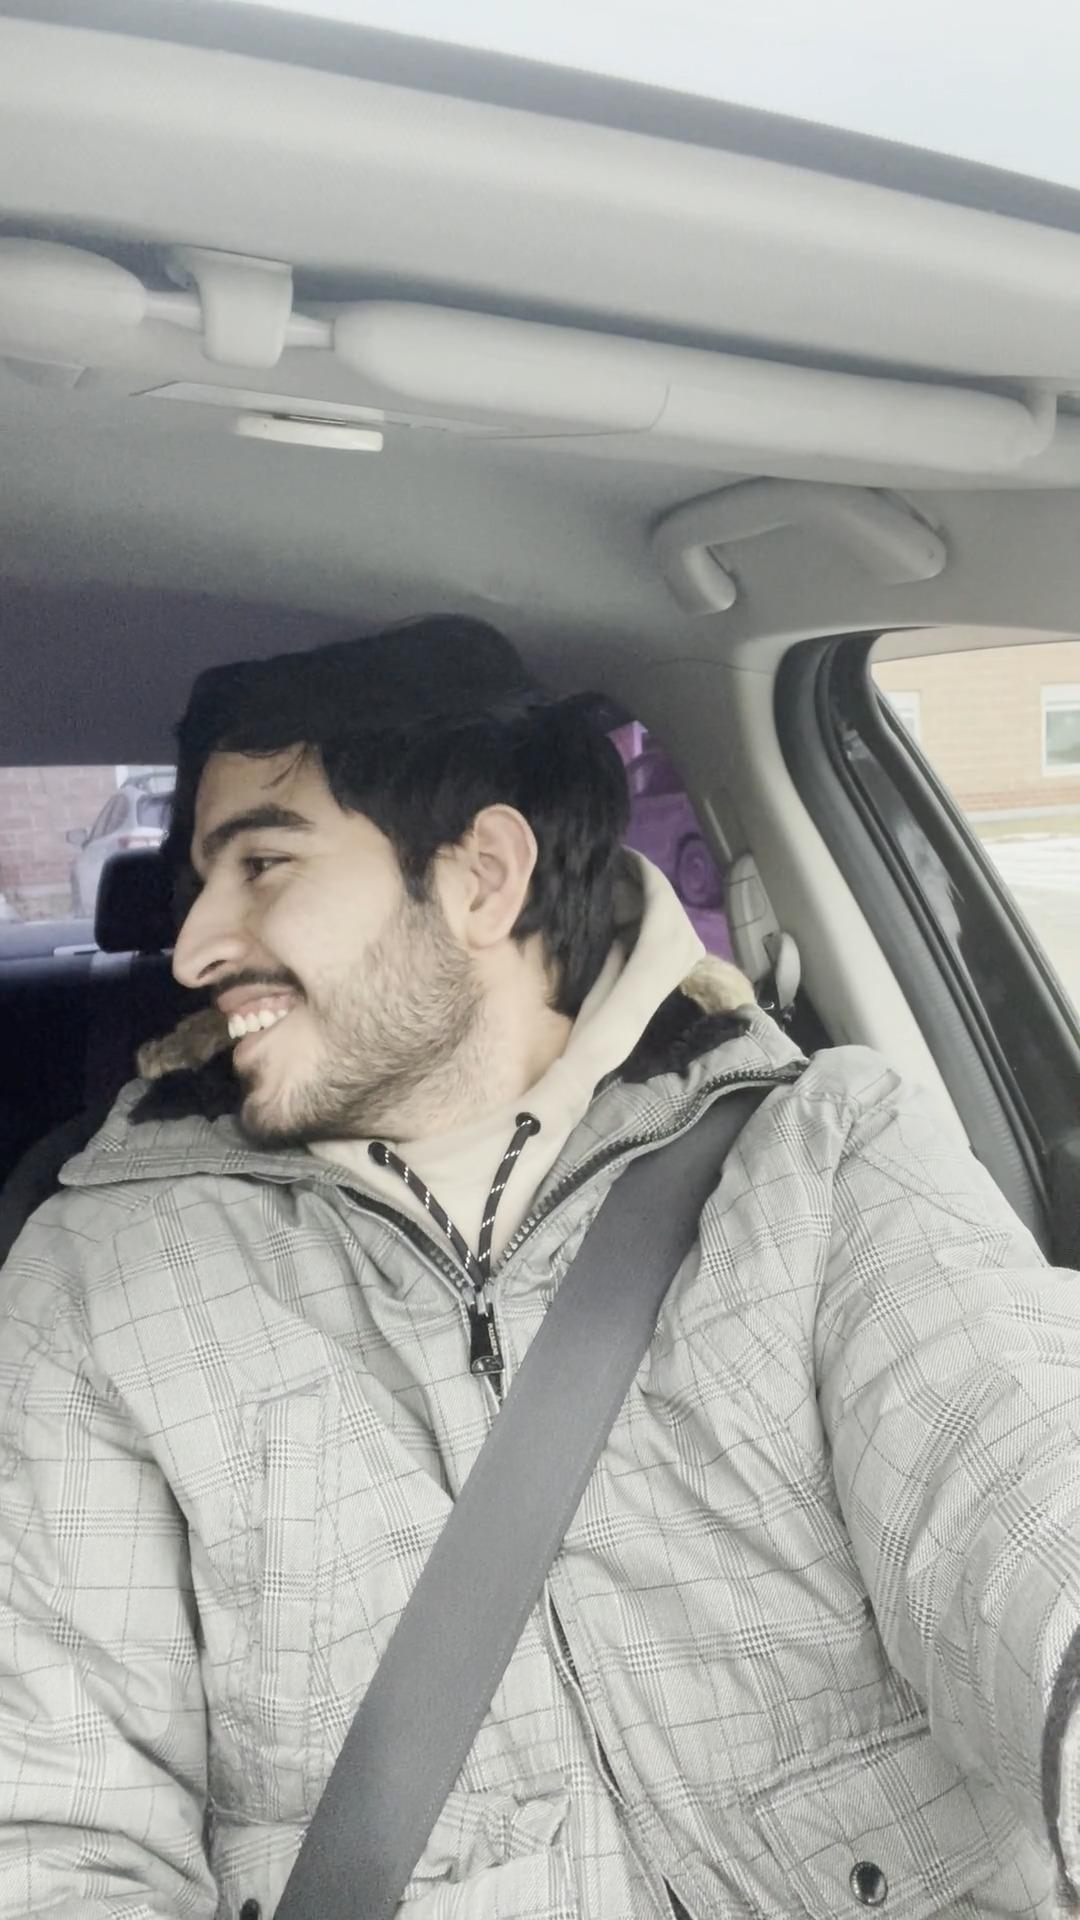inattentive: (135, 670, 640, 1170)
seatbelt: (165, 1085, 907, 1920)
